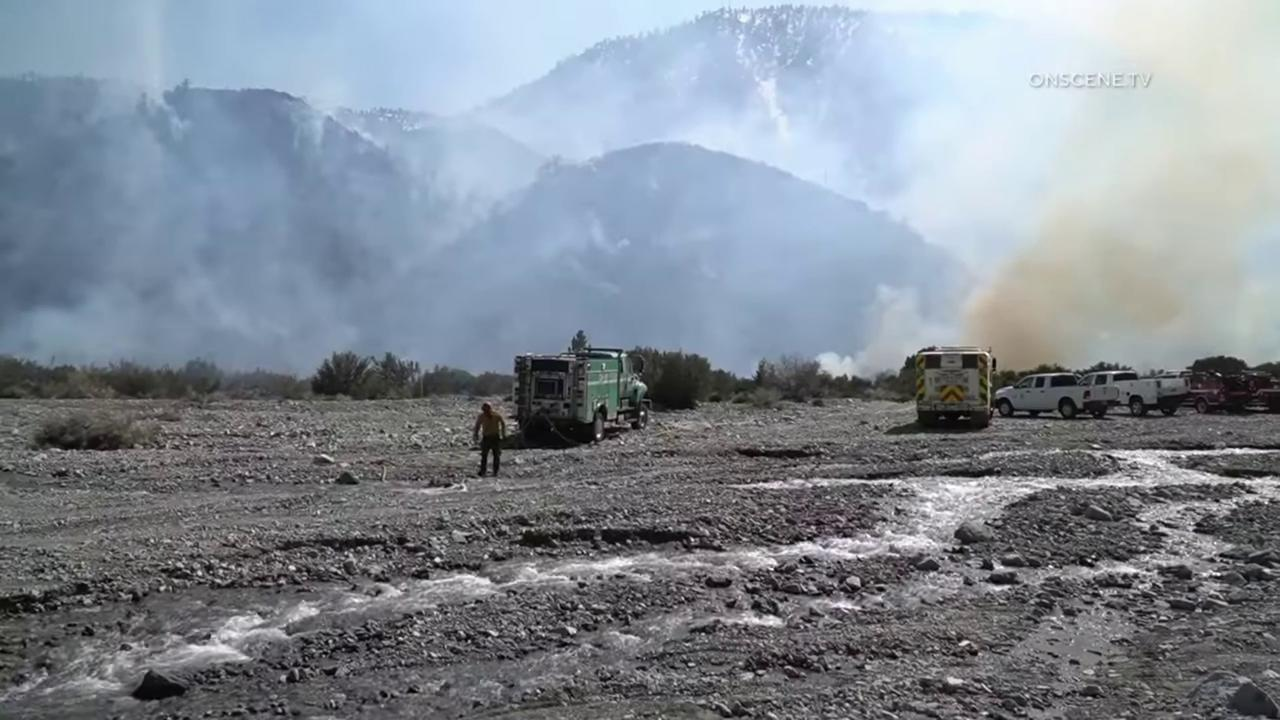smoke: (0, 0, 1280, 380)
